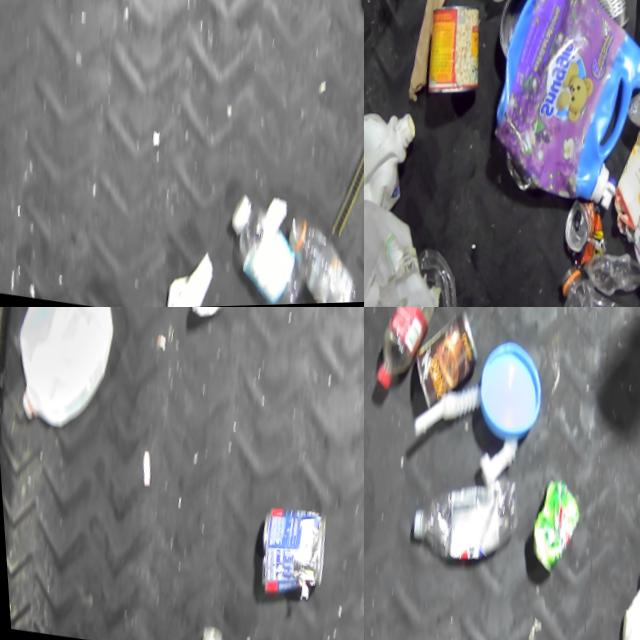can: (240, 496, 328, 607), (402, 307, 487, 421), (412, 0, 486, 102), (518, 477, 586, 582), (548, 197, 609, 275), (544, 0, 640, 33)
milk_jug: (0, 307, 129, 439), (364, 96, 419, 267), (364, 190, 427, 307), (364, 258, 458, 307)
non_white_jug: (468, 0, 640, 215)
plastic_bottle: (400, 464, 525, 574), (206, 192, 307, 307), (364, 307, 458, 403), (265, 216, 358, 307), (529, 255, 640, 307), (569, 248, 640, 303)
